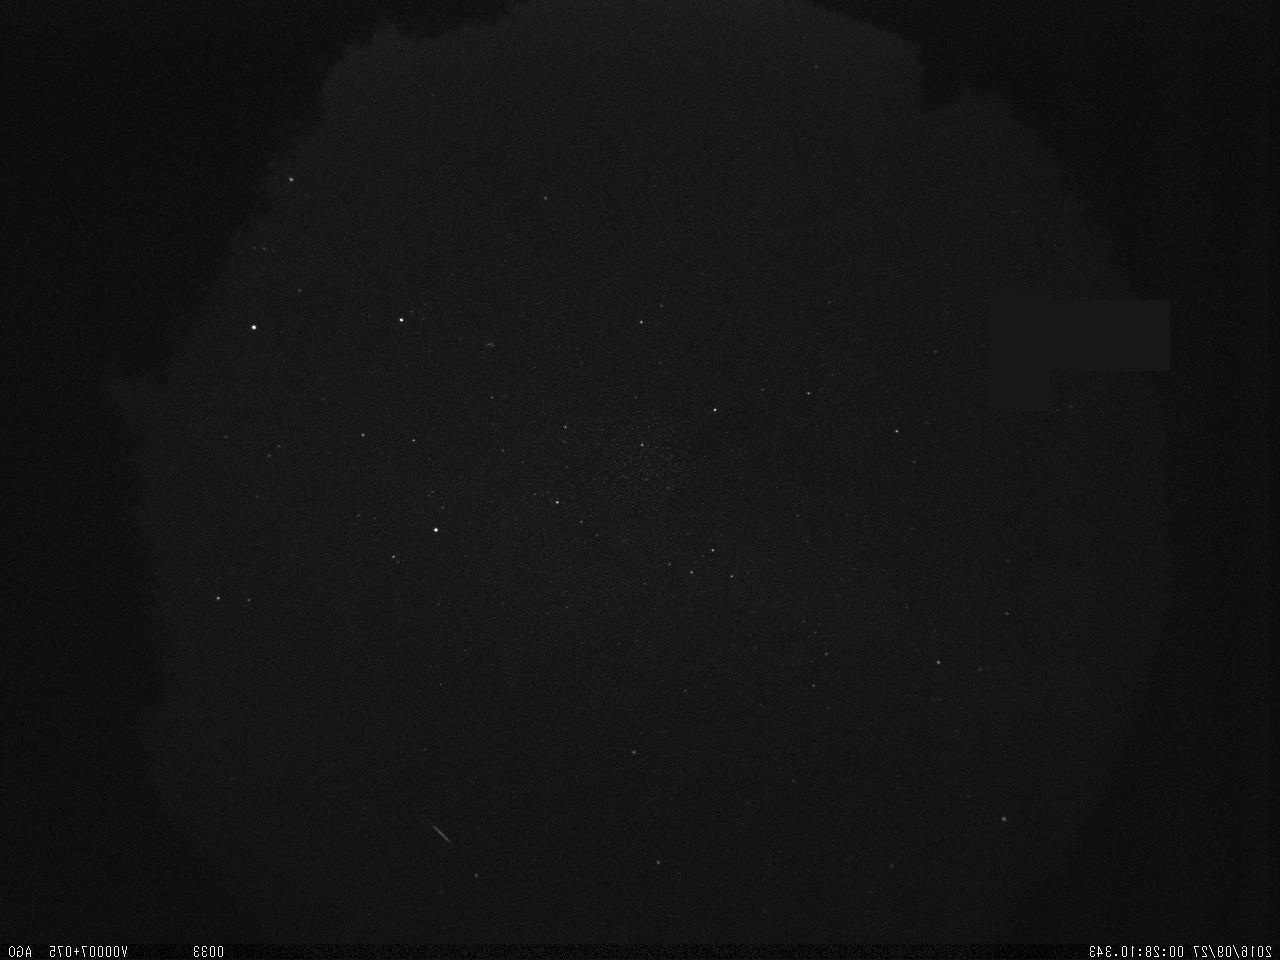meteor: (421, 811, 461, 852)
